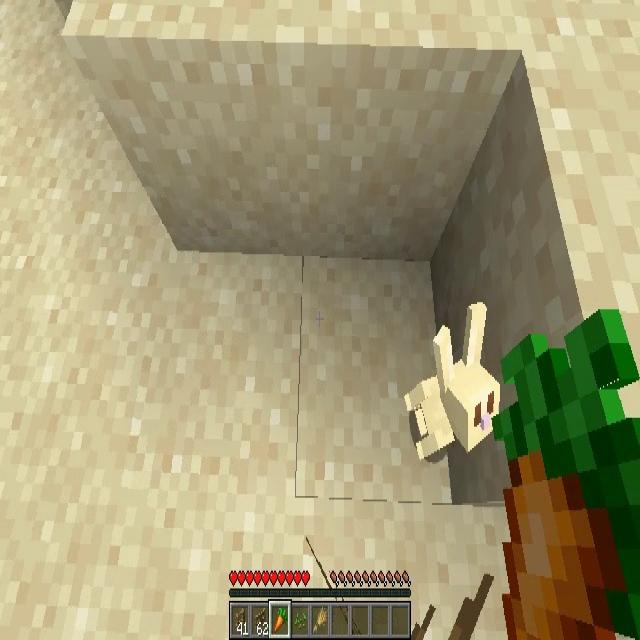rabbit: (401, 307, 499, 466)
